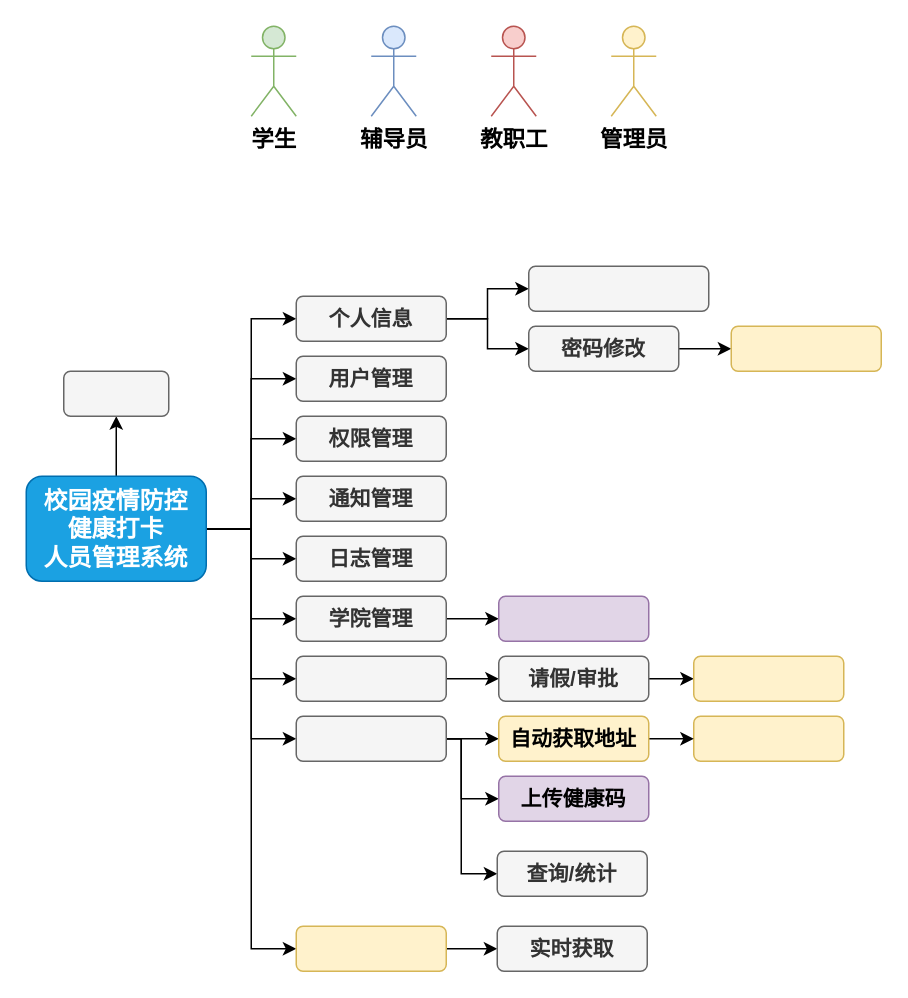
Image size: 908x998. Some labels were removed from this diagram. Here are the shapes that lost their labels. From the top down, the box of each, then its label:
(527, 265, 709, 311): 头像等信息修改
(730, 325, 881, 371): 短信验证码
(62, 370, 169, 416): 登录
(497, 595, 649, 641): 班级管理
(295, 655, 446, 701): 离校管理
(692, 655, 844, 701): Email通知
(295, 715, 446, 761): 每日健康打卡
(692, 715, 844, 761): 百度地图API
(295, 925, 446, 971): 疫情地图
